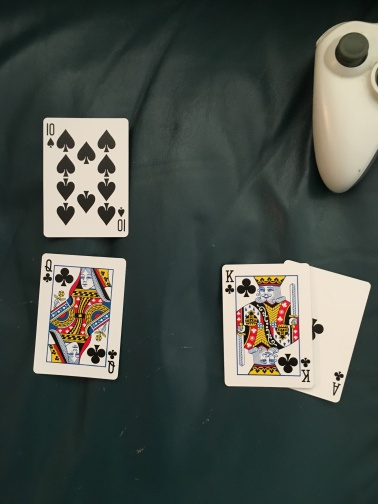ace: (312, 271, 370, 404)
king: (220, 264, 312, 387)
queen: (34, 250, 127, 380)
ten: (42, 114, 131, 239)
